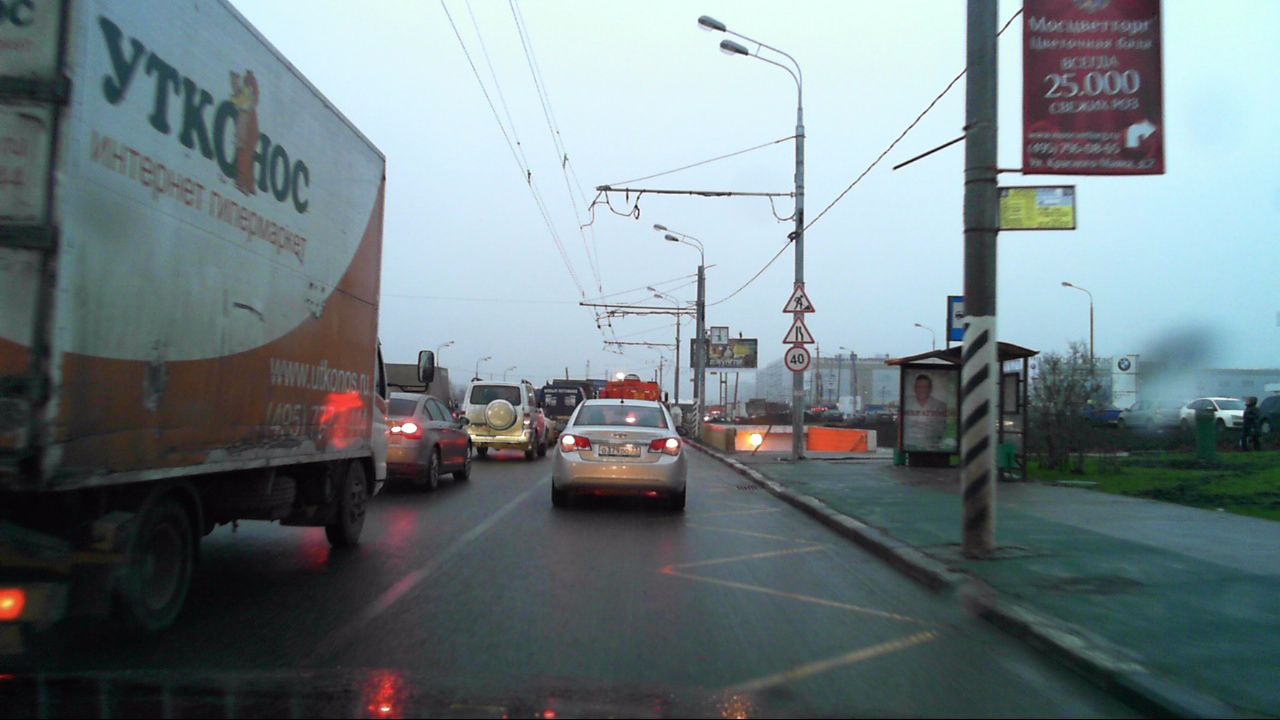speed_warning_40: (784, 345, 810, 371)
